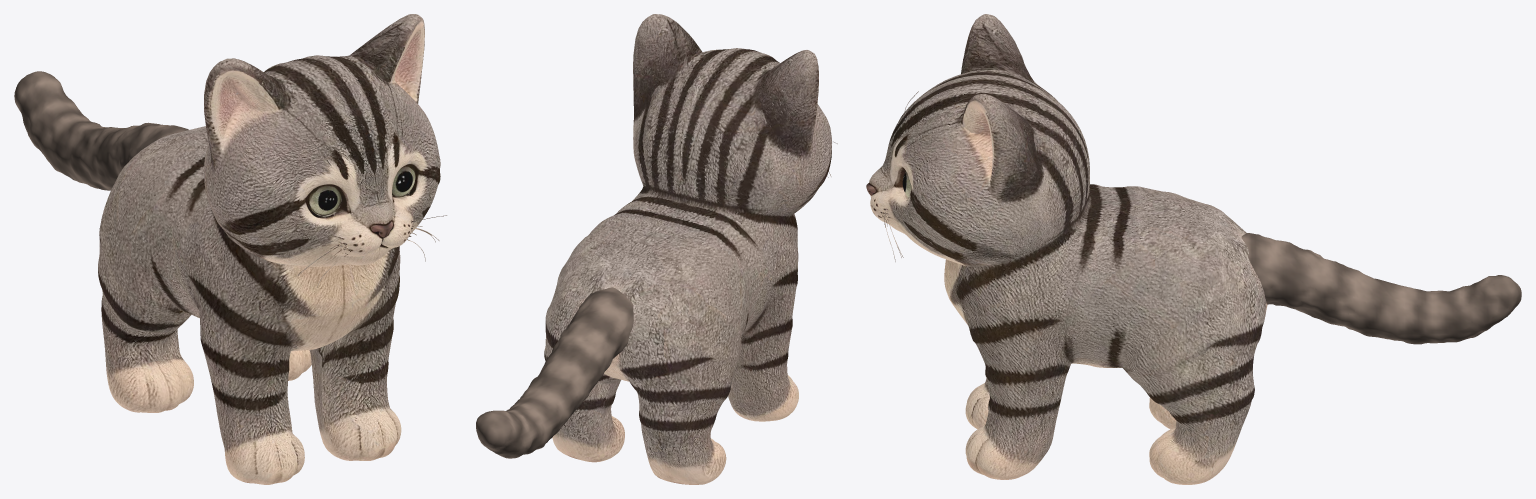
Rendered from meshy-greytabby.glb.
3 renders of one model, left to right at view 1: azimuth 30°, elevation 25°; view 2: azimuth 150°, elevation 25°; view 3: azimuth 270°, elevation 25°, orthographic. The views are drawn at different scales.
Parts seen in each view (by area): view 1: Mesh_0, tail.001; view 2: Mesh_0, tail.001; view 3: Mesh_0, tail.001.
Boxes of the visible parts, x1,y1,x2,y2 form: Mesh_0: (98,14,446,484); tail.001: (14,71,188,190); Mesh_0: (544,14,837,484); tail.001: (476,287,633,458); Mesh_0: (866,14,1267,484); tail.001: (1241,233,1521,344).
Bounding box in the file's own units: 0.9956 × 1.9 × 2.87.
Materials: 2 (1 with a texture image).
